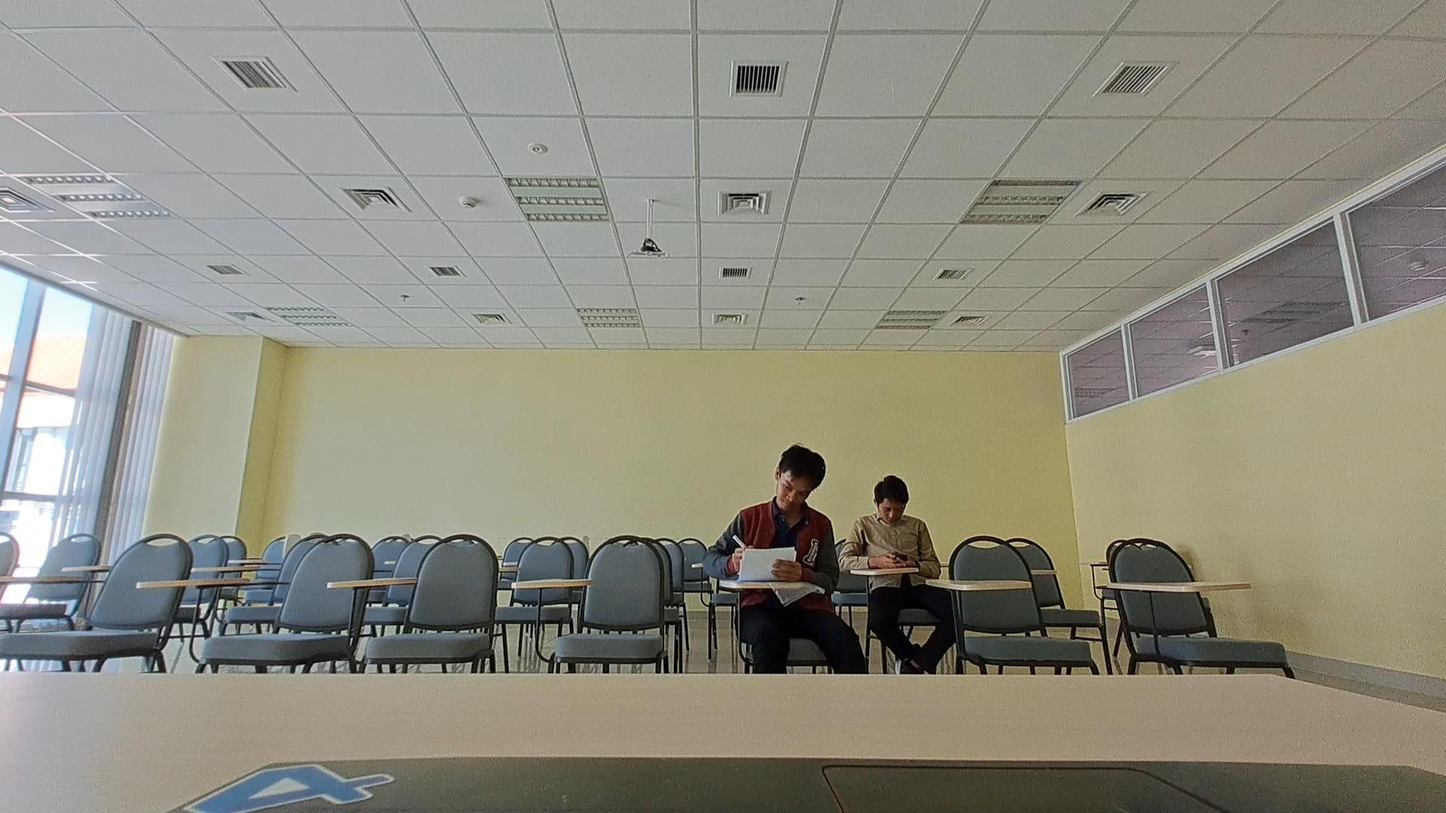phone: (840, 474, 940, 574)
study: (703, 445, 838, 585)
